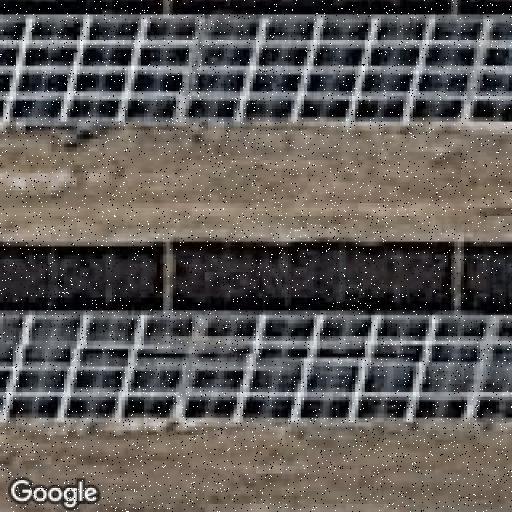solar-panel: (0, 10, 512, 132), (0, 308, 512, 422)
